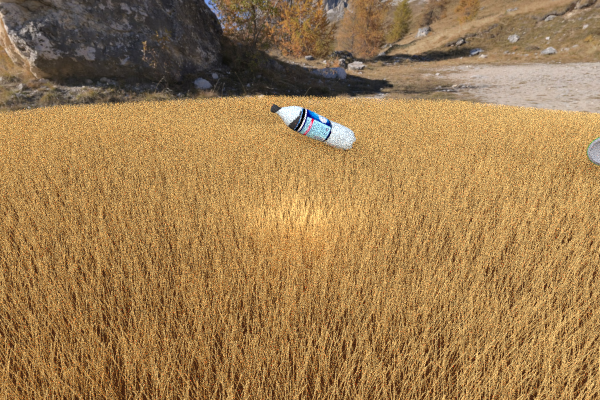Plastic Bottle: (270, 104, 356, 150), (154, 108, 191, 130), (586, 129, 600, 167)
